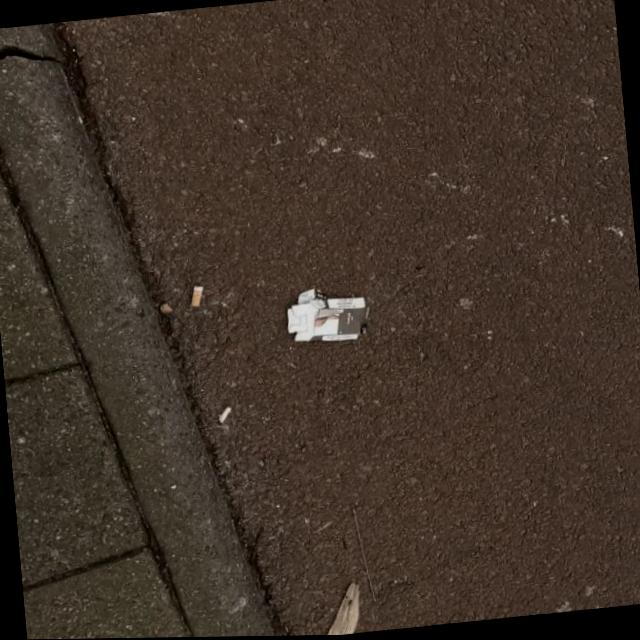Paper: (283, 281, 374, 347)
